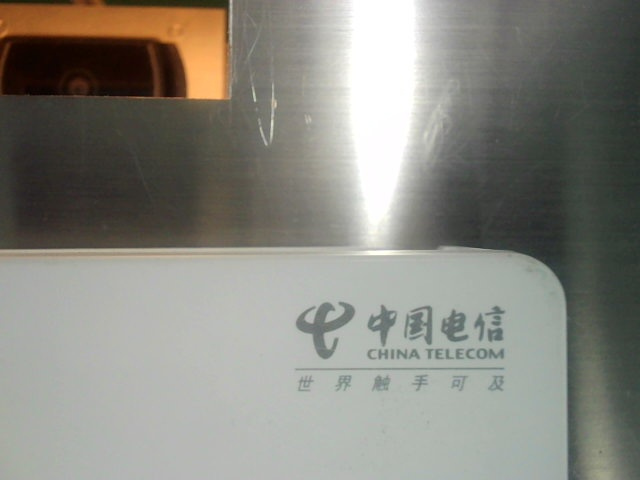AB_ChinaTelecom: (281, 286, 511, 402)
